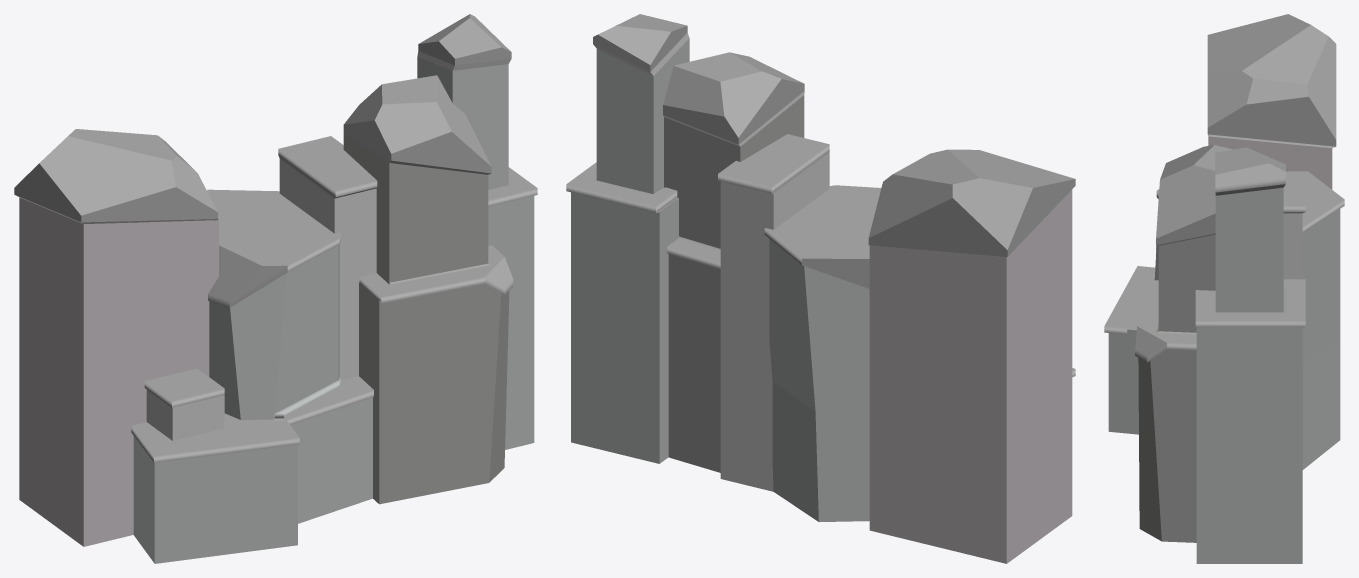
The model's file is Rock_Wall_05.fbx.
3 renders of one model, left to right at view 1: azimuth 30°, elevation 25°; view 2: azimuth 150°, elevation 25°; view 3: azimuth 270°, elevation 25°, orthographic. The views are drawn at different scales.
Visible parts, largest first — view 1: Rock_Wall_05; view 2: Rock_Wall_05; view 3: Rock_Wall_05.
Part boxes in pixels (x1,y1,x2,y2): Rock_Wall_05: [14, 14, 537, 563]; Rock_Wall_05: [566, 14, 1075, 563]; Rock_Wall_05: [1104, 14, 1344, 563].
Bounding box in the file's own units: 694 × 594 × 334.
